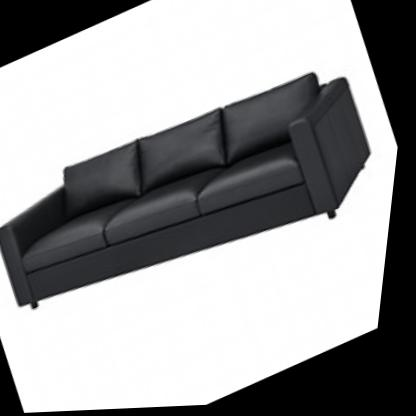Sofa: (0, 28, 410, 367)
